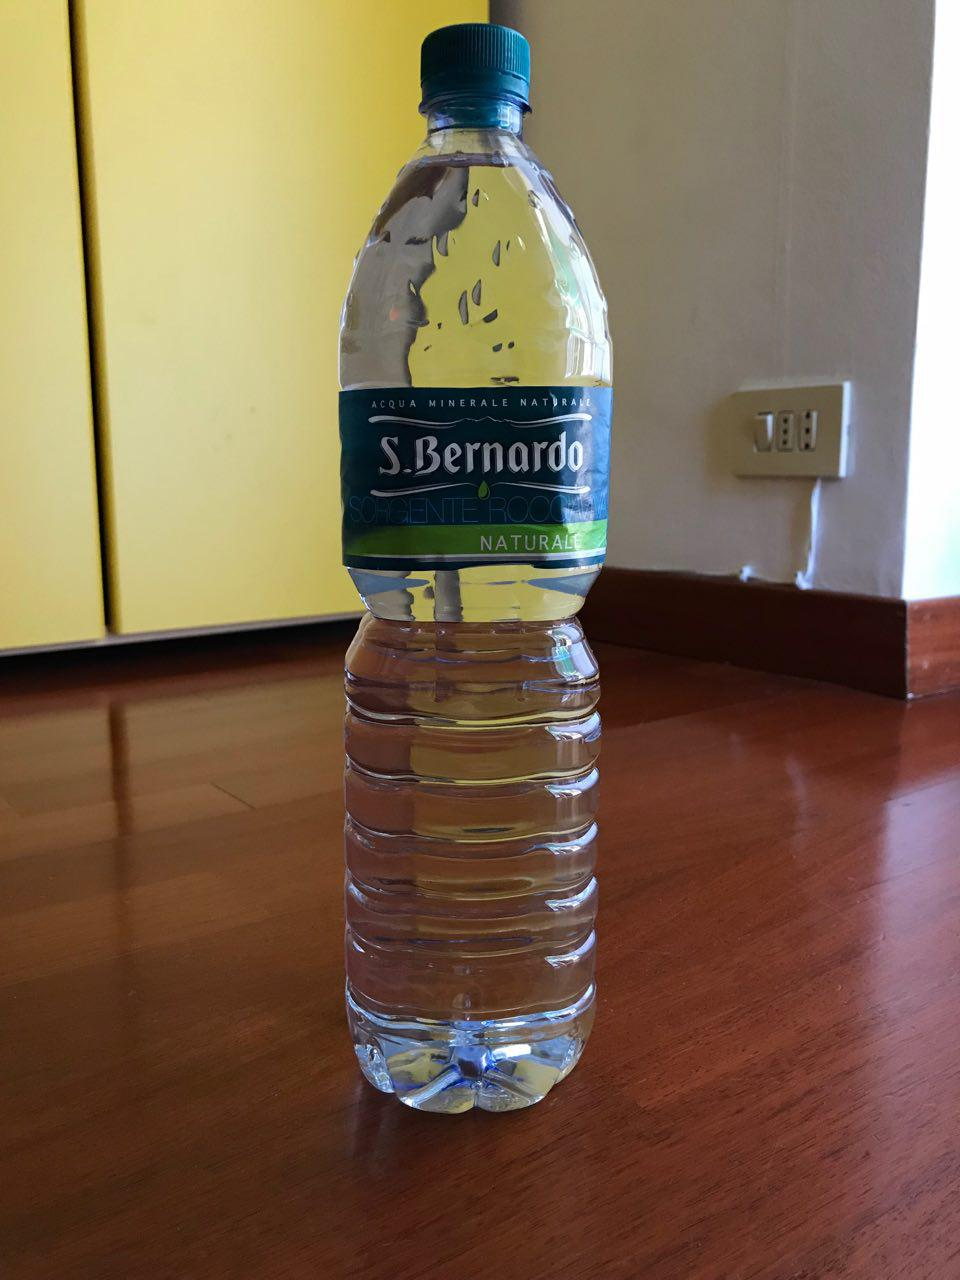san_bernardo: (335, 20, 616, 1119)
